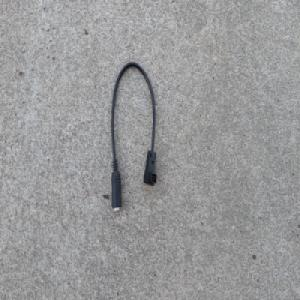Wire: (108, 59, 157, 212)
